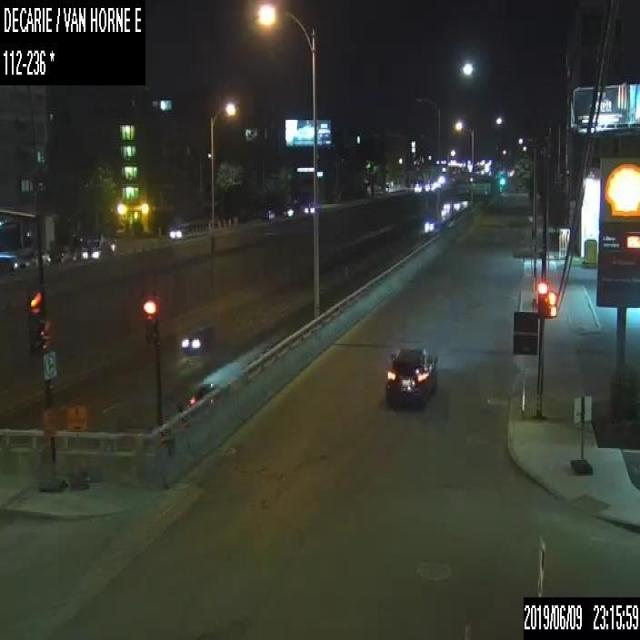construction: (39, 404, 63, 490), (64, 401, 87, 490), (569, 394, 591, 473)
vehicle: (383, 341, 436, 407), (180, 321, 213, 354), (184, 380, 217, 406), (12, 247, 50, 269), (81, 240, 115, 258), (168, 223, 190, 237), (282, 200, 299, 215), (302, 200, 314, 209)
